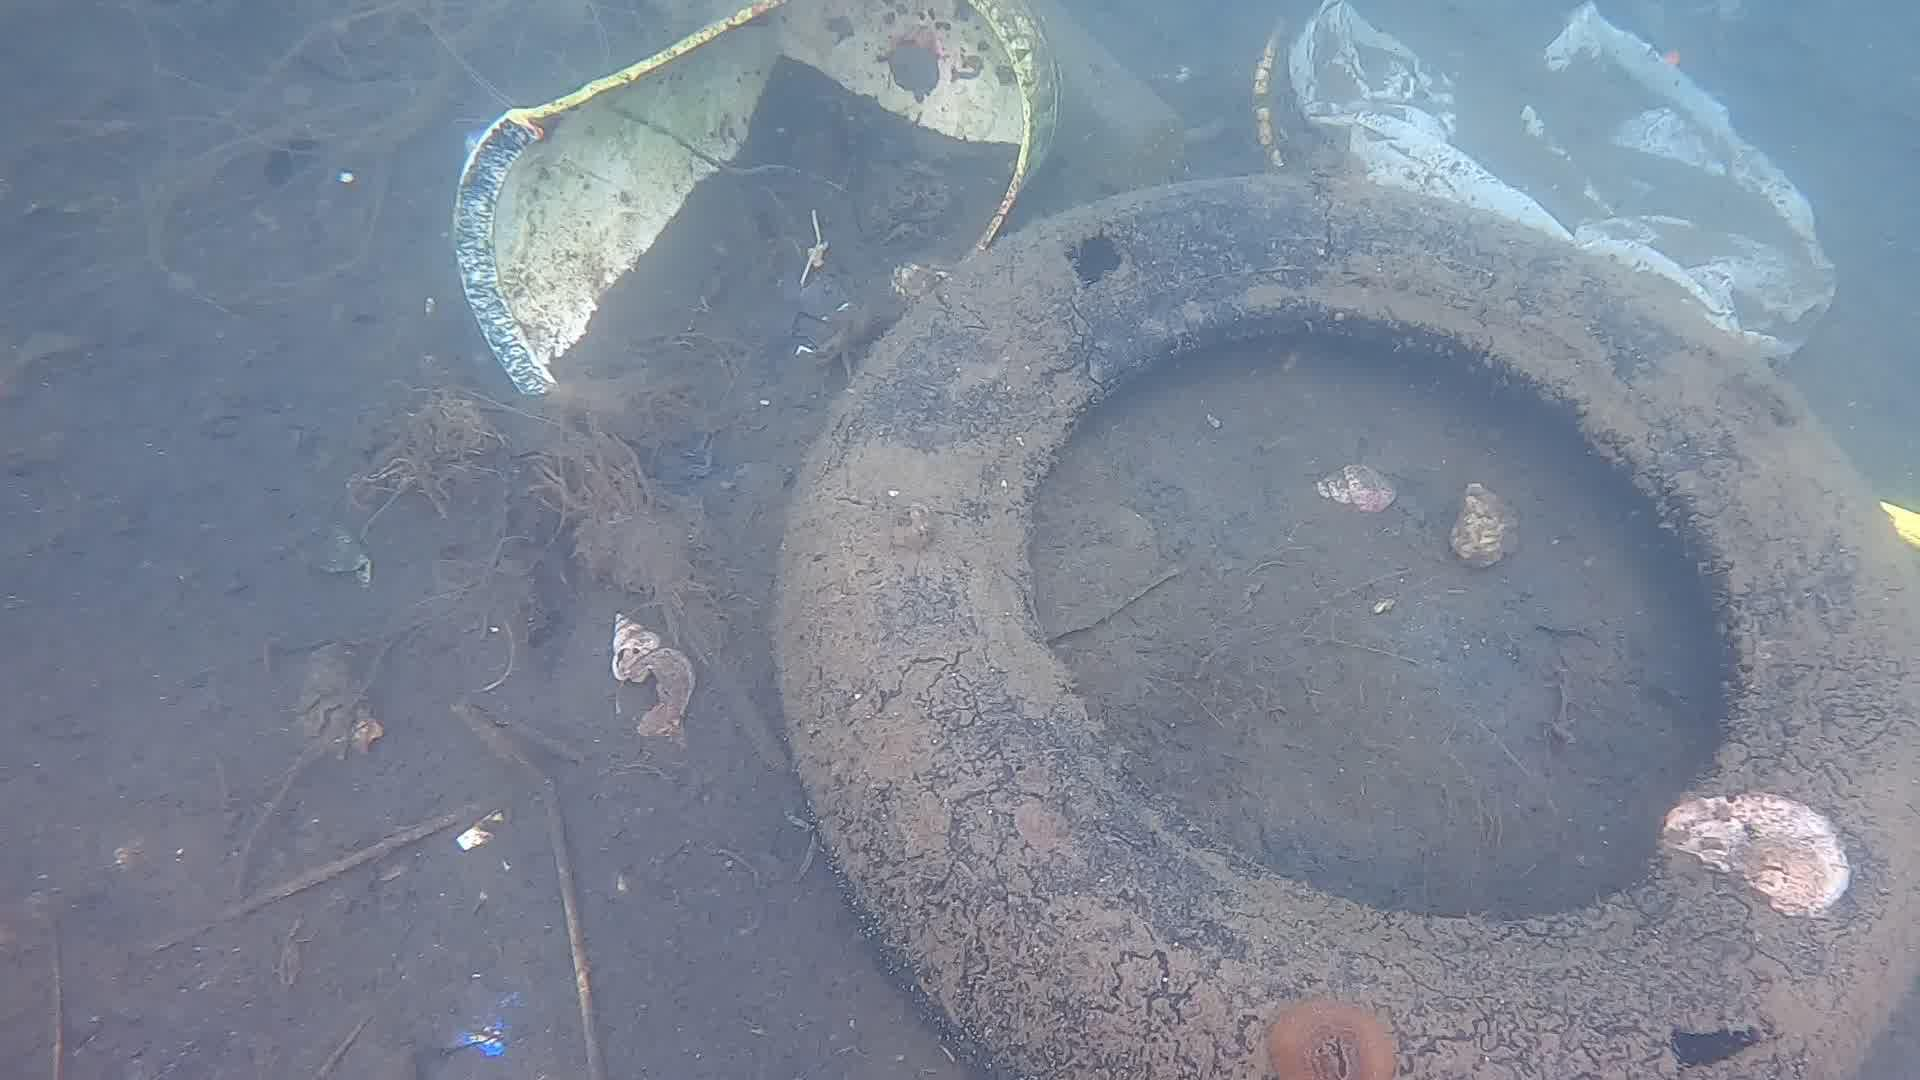other objects: (413, 4, 1087, 456)
tire: (767, 167, 1920, 1080)
